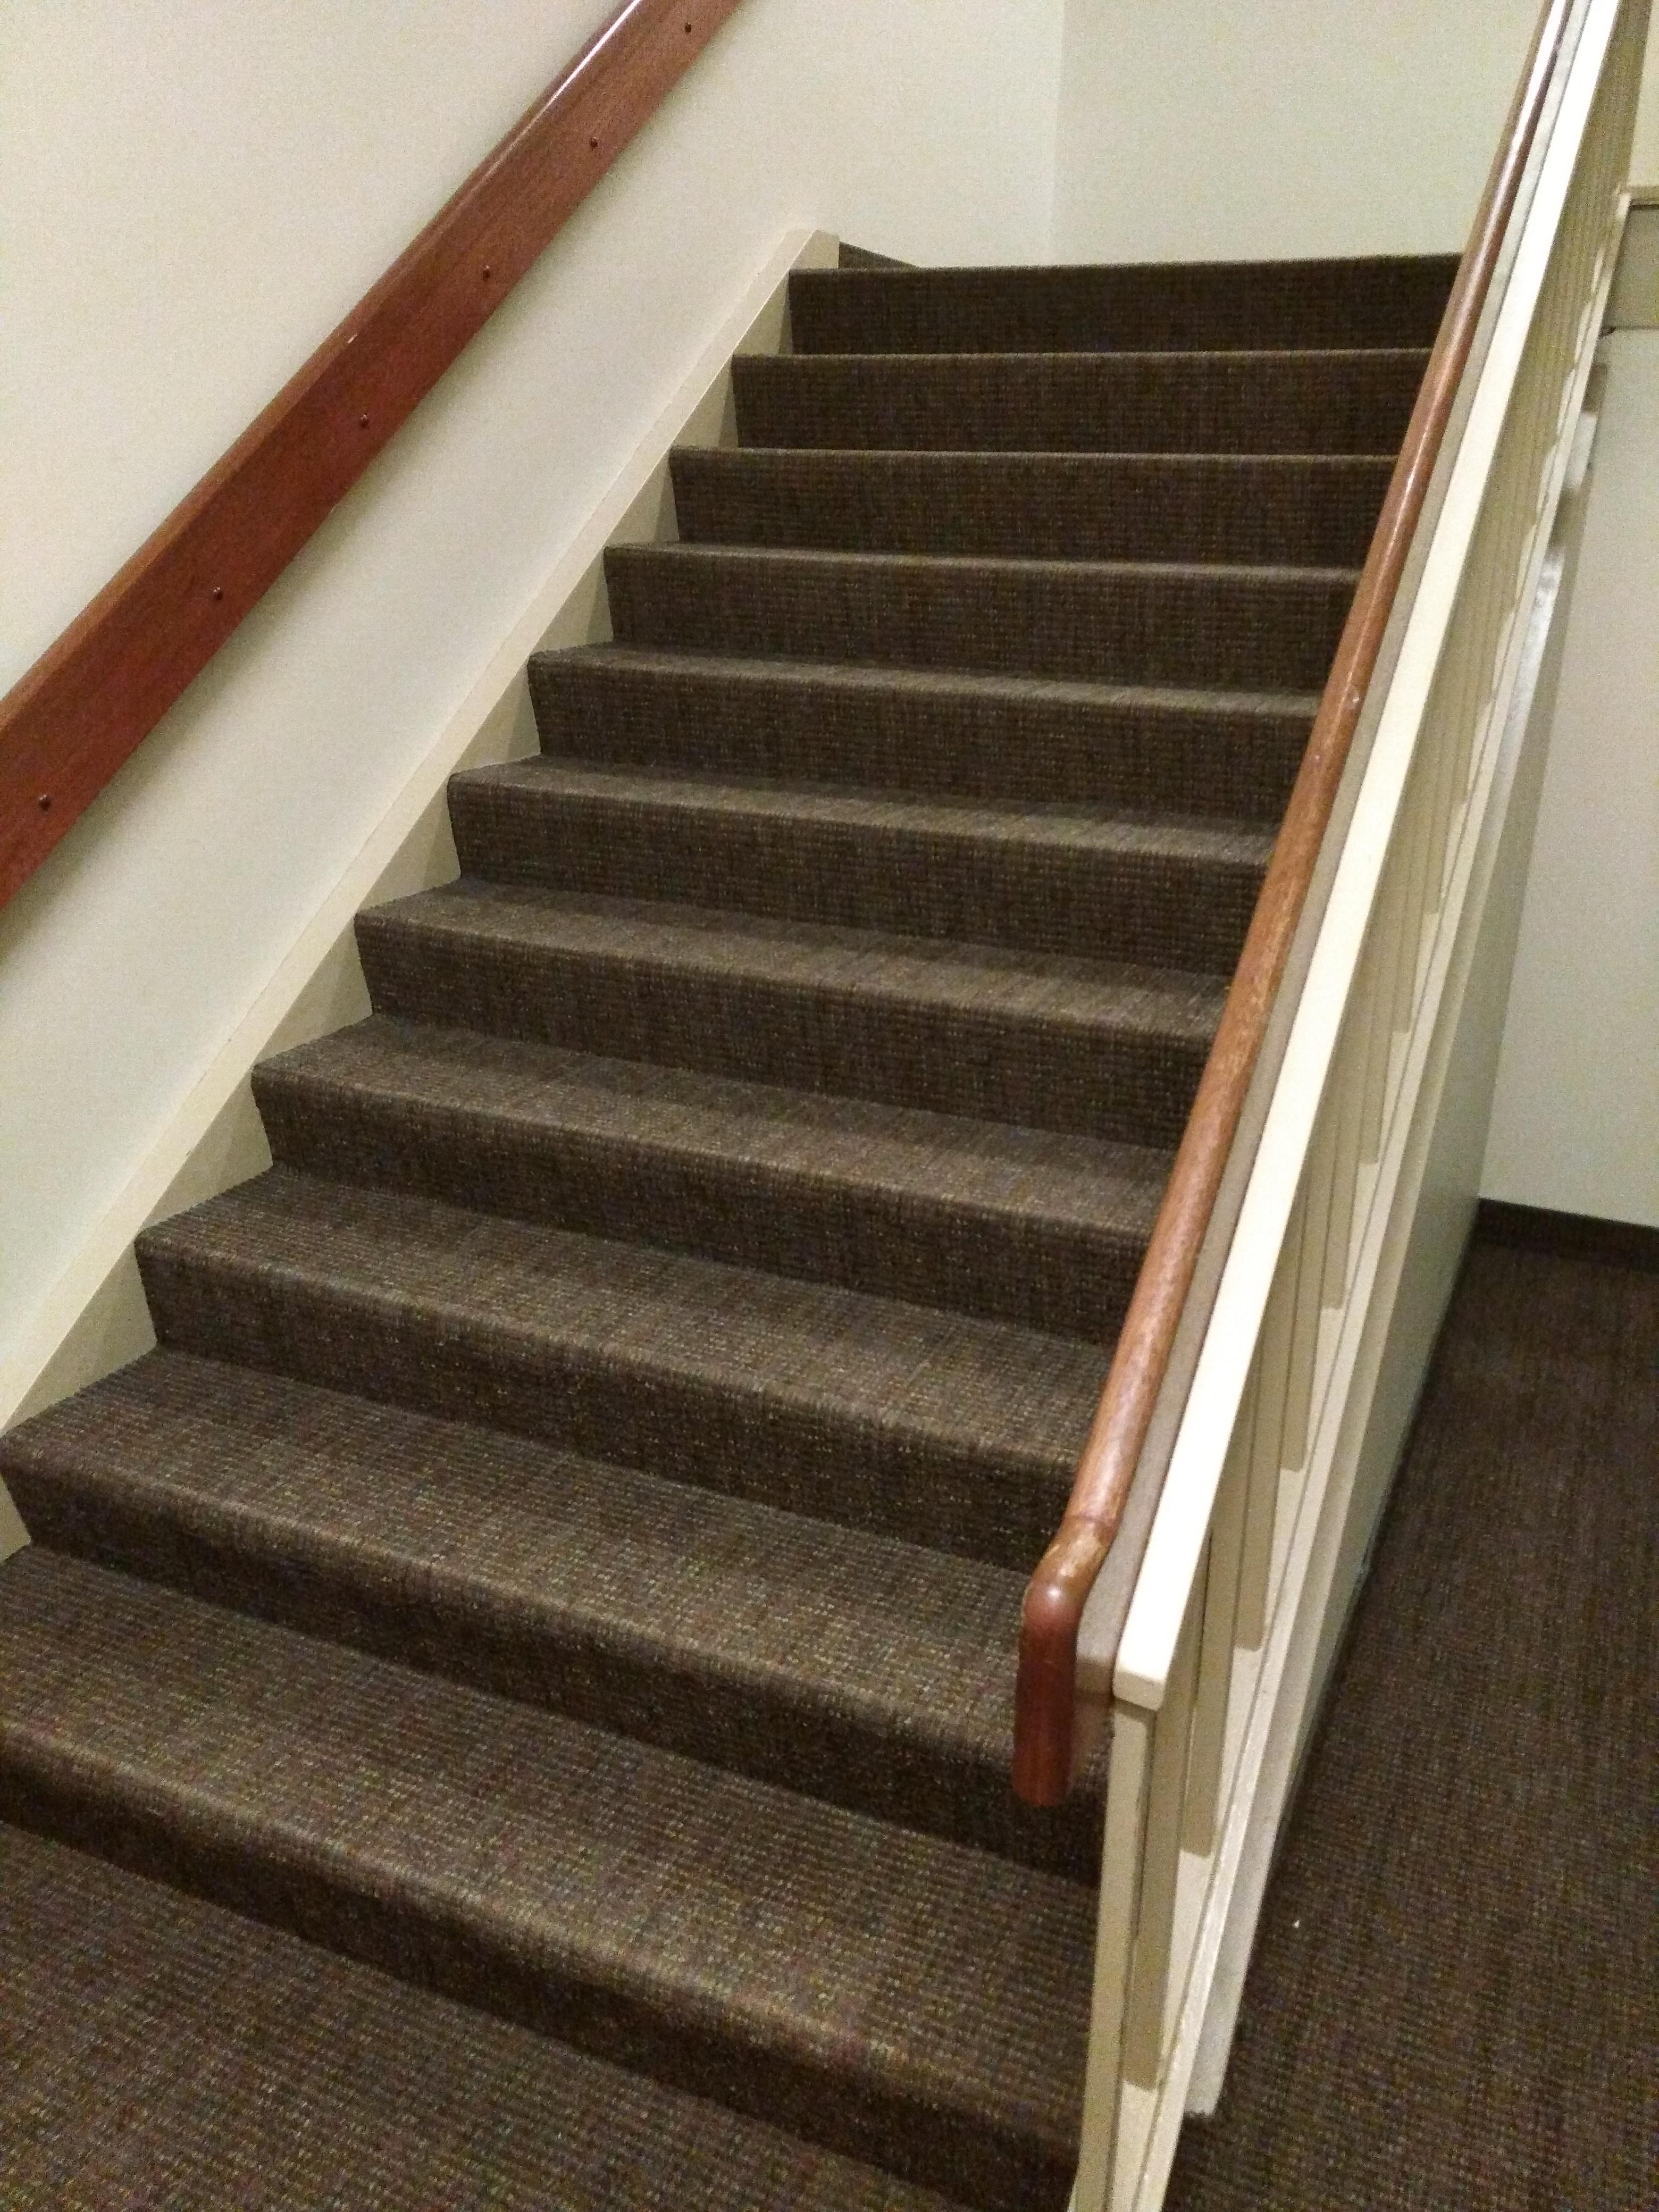stairs_up: (0, 172, 1549, 2161)
